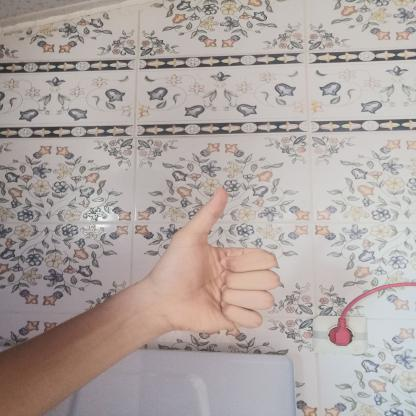ALIF: (135, 176, 293, 342)
